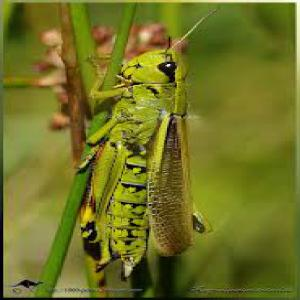locust: (59, 28, 220, 300)
